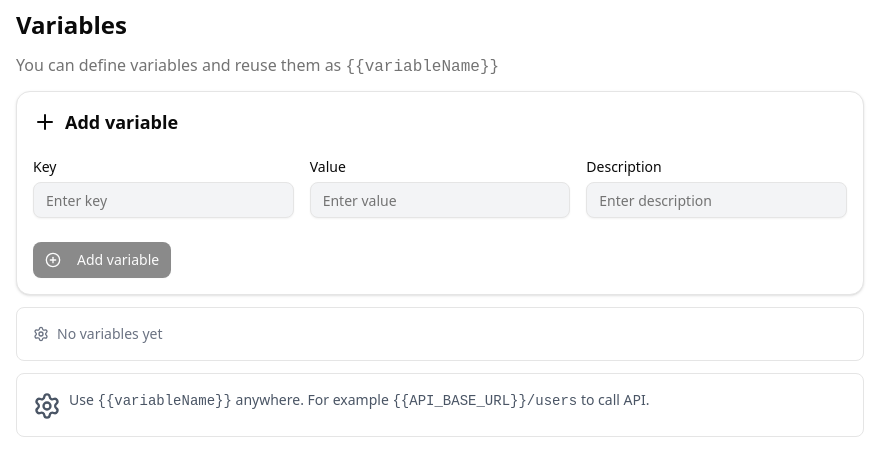
Test: VariablesPage › button unabled disabled
Expected: the button "Add variable" is disabled, [33,242,171,278]
In the field labelled "Key": (163, 200) [33,182,294,218], type "API_STARWARS_URL"
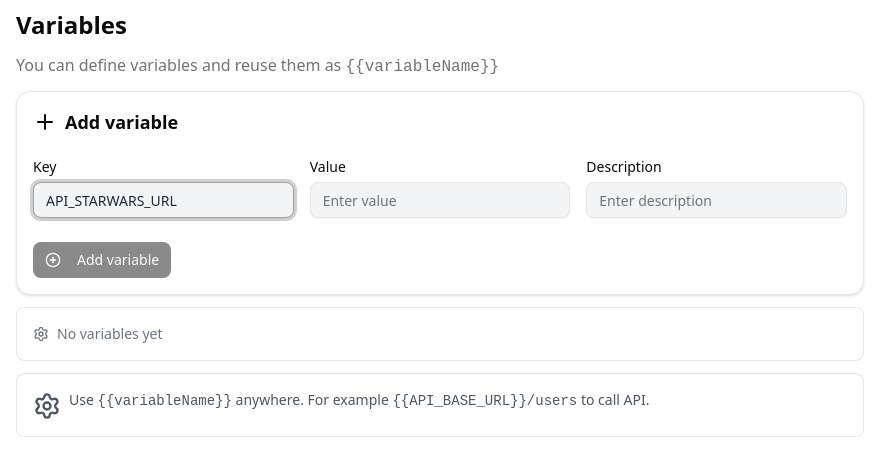
Expected: the button "Add variable" is disabled, [33,242,171,278]
In the field labelled "Value": (440, 200) [310,182,570,218], type "https://swapi.dev/api/"
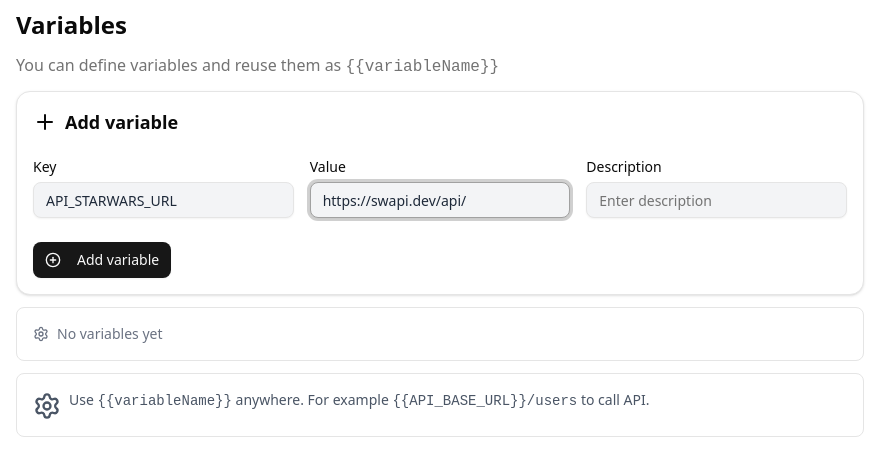
Expected: the button "Add variable" is enabled, [33,242,171,278]
